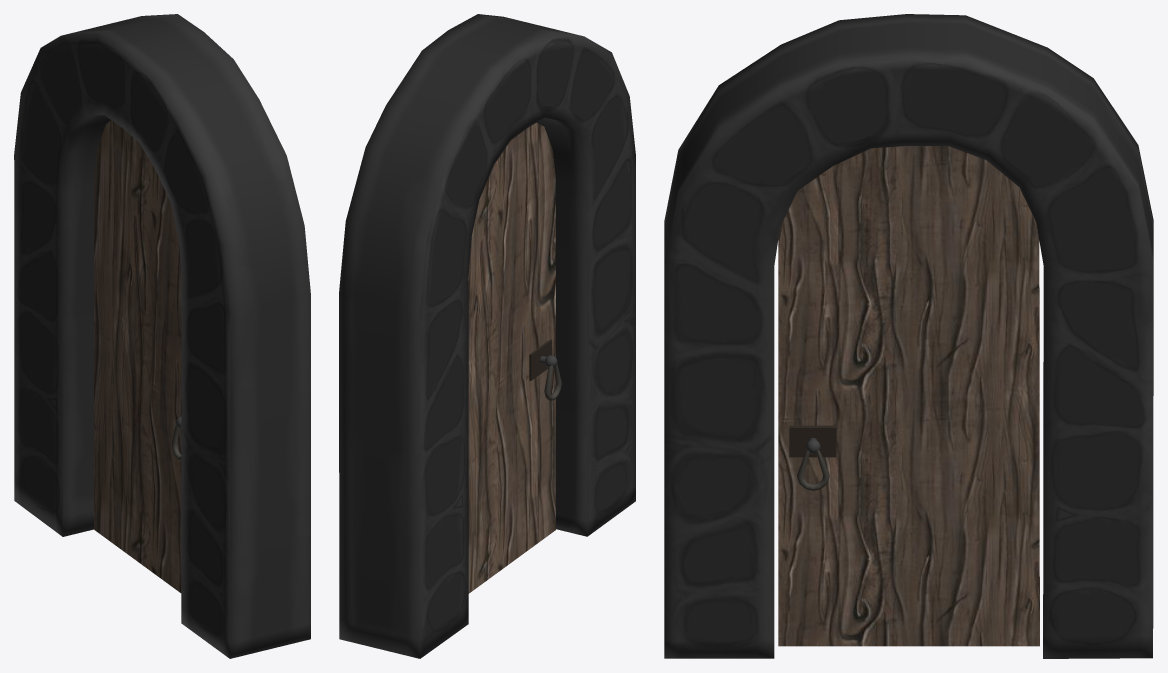
File: door.fbx
3 renders of one model, left to right at view 1: azimuth 30°, elevation 25°; view 2: azimuth 150°, elevation 25°; view 3: azimuth 270°, elevation 25°, orthographic. The views are drawn at different scales.
Visible parts, largest first — view 1: Plane, Plane.001; view 2: Plane, Plane.001, Cube.001; view 3: Plane, Plane.001, Cube.
Part boxes in pixels (x1,y1,x2,y2): Plane: (14, 14, 310, 658); Plane.001: (94, 120, 181, 592); Plane: (339, 14, 635, 658); Plane.001: (468, 122, 555, 593); Cube.001: (529, 339, 551, 380); Plane: (664, 14, 1153, 658); Plane.001: (778, 146, 1039, 646); Cube: (789, 425, 836, 457).
Size of the model in its own units: 236 by 1478 by 1092.
